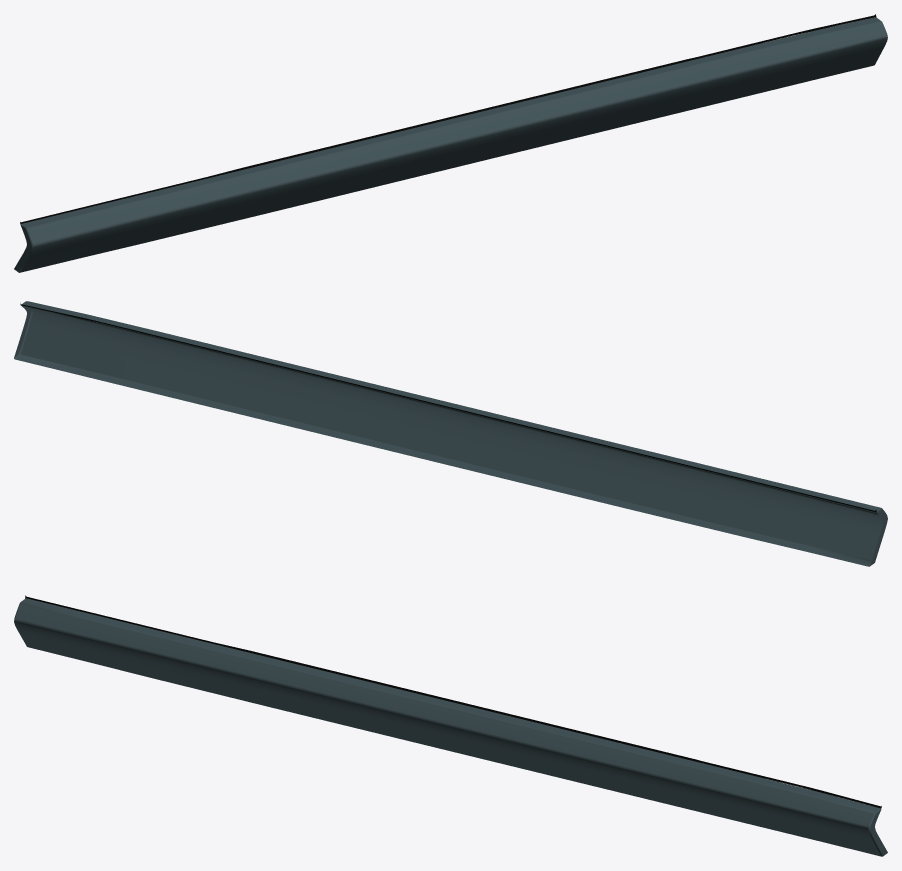
3 views of the same model, one above another, from view 1: azimuth 30°, elevation 25°; view 2: azimuth 150°, elevation 25°; view 3: azimuth 330°, elevation 25° (orthographic).
Parts seen in each view (by area): view 1: P222_15_206A_R_1_DaS_P222_15_206A_R, P222_15_206A_R_P222_15_206A_R_2_D, P222_15_206A_R_1_DaS_P222_15_206A_R_E; view 2: P222_15_206A_R_1_DaS_P222_15_206A_R, P222_15_206A_R_1_DaS_P222_15_206A_R_E, P222_15_206A_R_P222_15_206A_R_2_D; view 3: P222_15_206A_R_1_DaS_P222_15_206A_R, P222_15_206A_R_P222_15_206A_R_2_D, P222_15_206A_R_1_DaS_P222_15_206A_R_E.
Part boxes in pixels (x1,y1,x2,y2): P222_15_206A_R_1_DaS_P222_15_206A_R: [14, 17, 887, 272]; P222_15_206A_R_P222_15_206A_R_2_D: [20, 14, 876, 224]; P222_15_206A_R_1_DaS_P222_15_206A_R_E: [19, 21, 887, 272]; P222_15_206A_R_1_DaS_P222_15_206A_R: [14, 301, 887, 566]; P222_15_206A_R_1_DaS_P222_15_206A_R_E: [19, 301, 883, 562]; P222_15_206A_R_P222_15_206A_R_2_D: [20, 303, 876, 512]; P222_15_206A_R_1_DaS_P222_15_206A_R: [14, 598, 887, 856]; P222_15_206A_R_P222_15_206A_R_2_D: [25, 595, 881, 808]; P222_15_206A_R_1_DaS_P222_15_206A_R_E: [14, 602, 882, 856].
Bounding box in the file's own units: 197 × 11.78 × 7.47.
